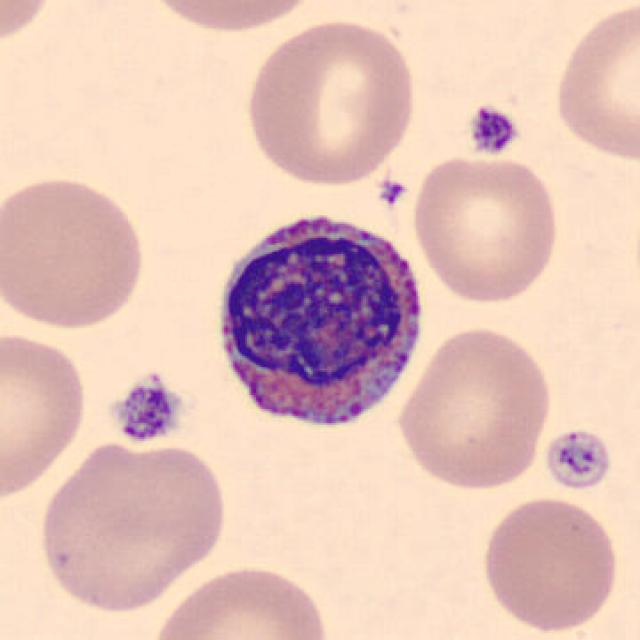Nuclei: (228, 238, 398, 383), (125, 390, 171, 441), (476, 110, 513, 148)
